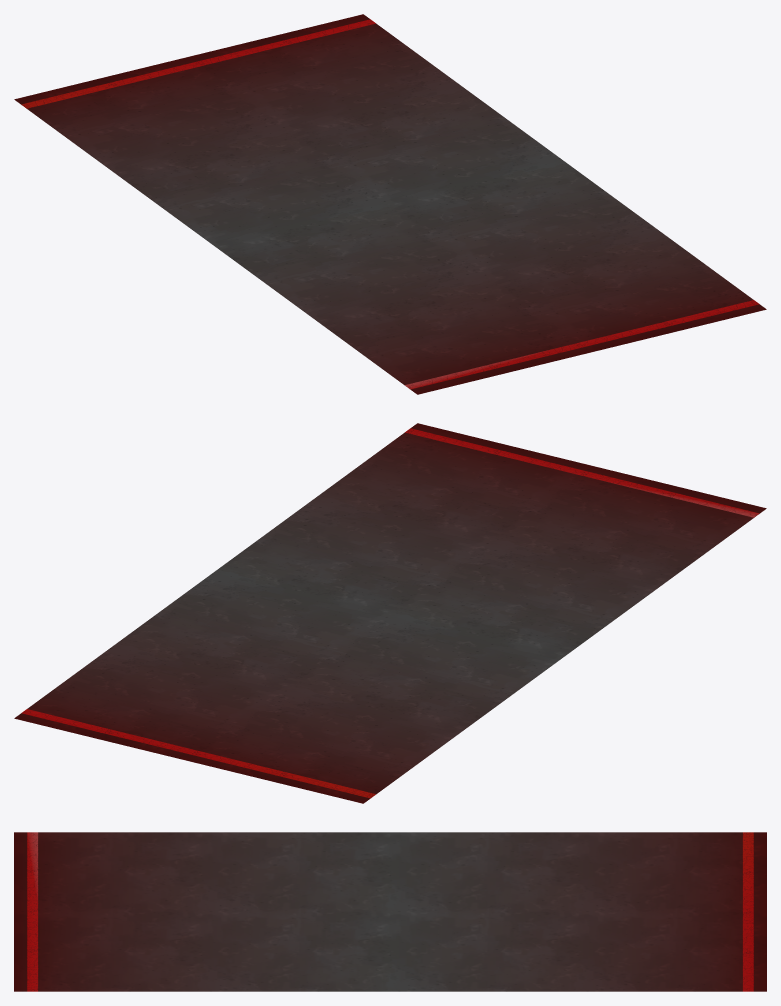
File: Street_4Lane_noSidewalk.gltf
The picture shows the model from 3 angles, top to bottom: view 1: azimuth 30°, elevation 25°; view 2: azimuth 150°, elevation 25°; view 3: azimuth 270°, elevation 25°; orthographic projection. The views are drawn at different scales.
Parts seen in each view (by area): view 1: Street_4Lane_noSidewalk; view 2: Street_4Lane_noSidewalk; view 3: Street_4Lane_noSidewalk.
Part boxes in pixels (left/top/right/bottom): Street_4Lane_noSidewalk: left=14, top=14, right=766, bottom=394; Street_4Lane_noSidewalk: left=14, top=423, right=766, bottom=803; Street_4Lane_noSidewalk: left=14, top=832, right=766, bottom=991.
Size of the model in its own units: 6 by 0.002 by 12.
2 materials, 2 textured.
